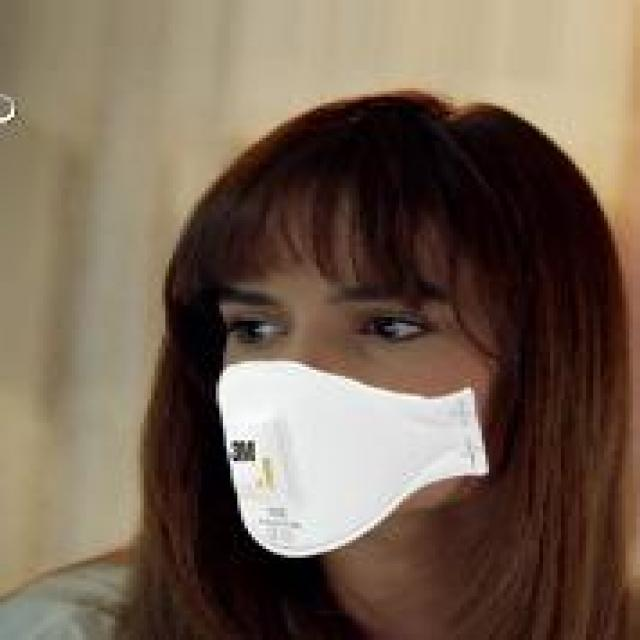mask: (119, 62, 593, 560)
